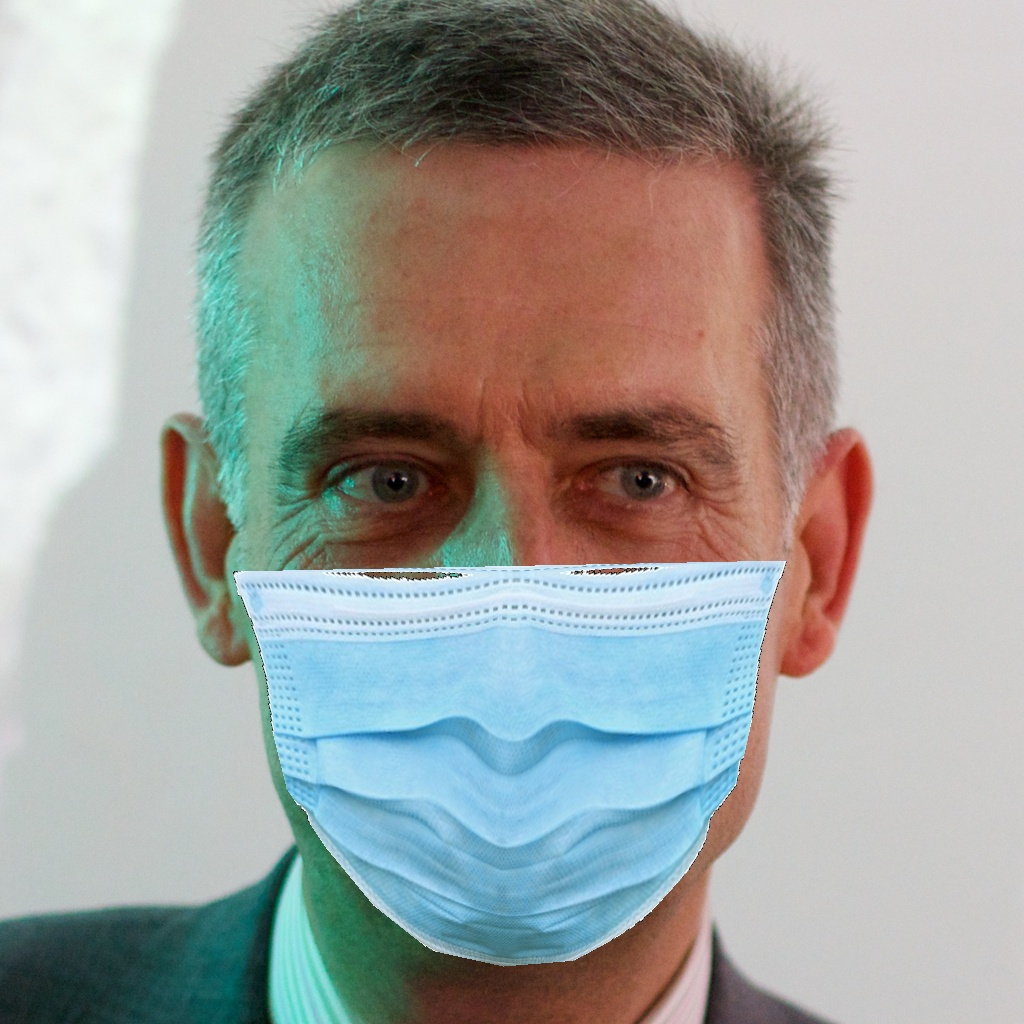Mask: (233, 346, 787, 971)
